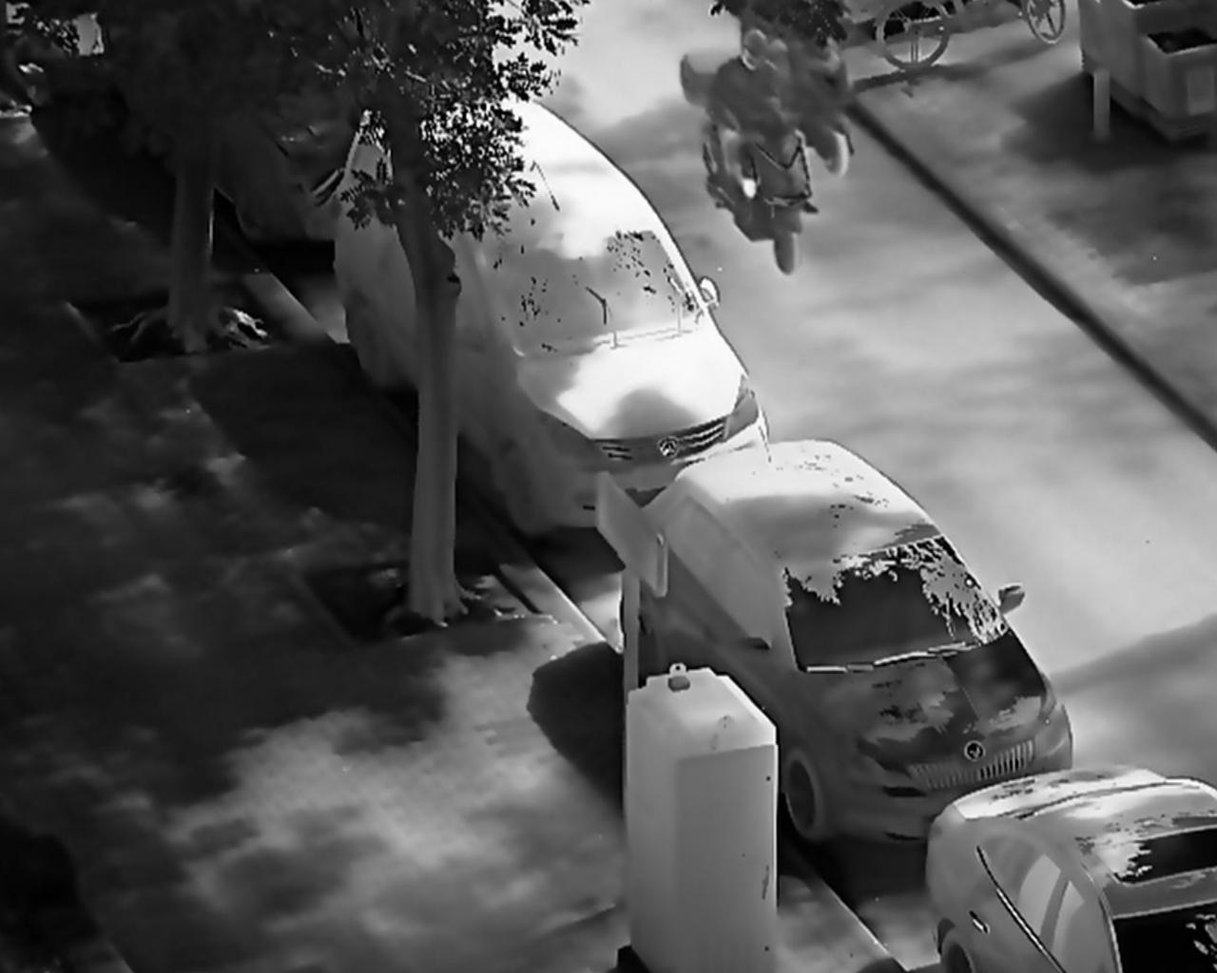person: (709, 25, 796, 204)
